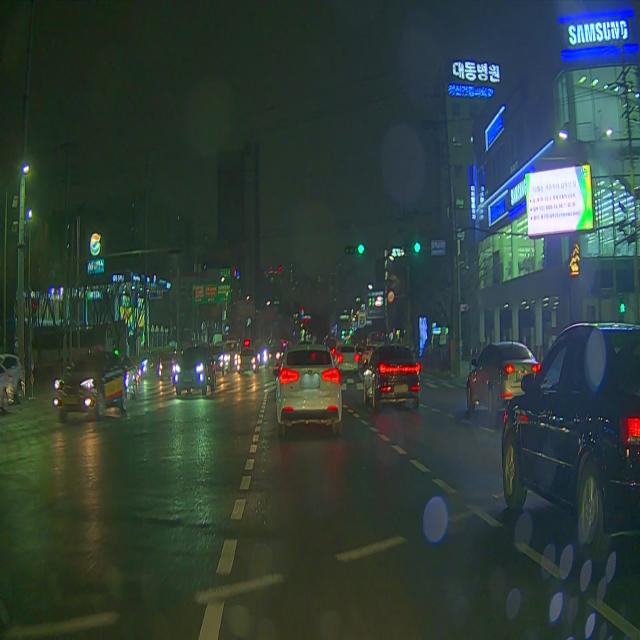Green Light: (412, 239, 422, 256), (357, 240, 366, 257)
